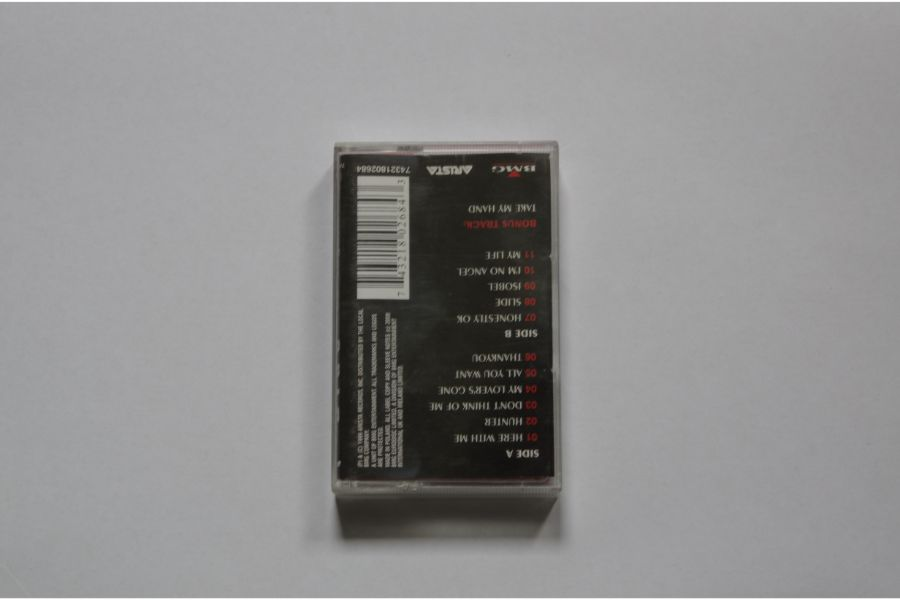album: (330, 140, 564, 499)
